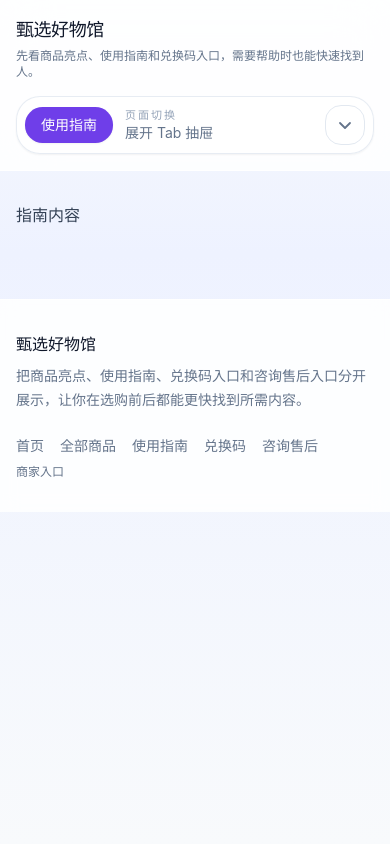
it: SiteShell › 移动端切换按钮会展示当前 tab，并支持抽屉展开
Click the button "使用指南 页面切换 展开 Tab 抽屉" at (195, 125), box [16, 96, 374, 154]
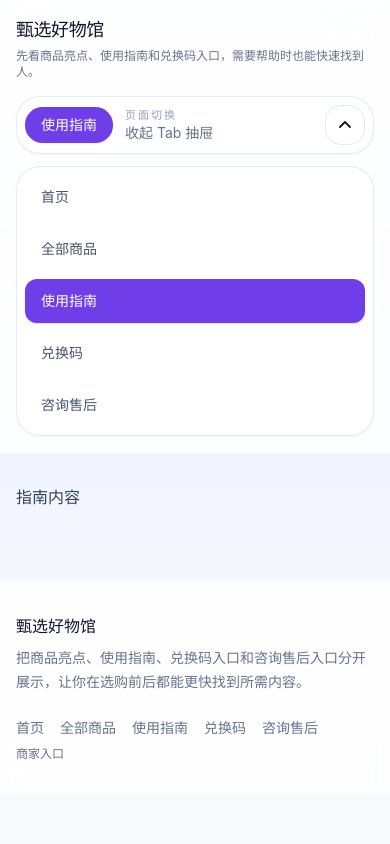
Now the button "使用指南 页面切换 收起 Tab 抽屉" is expanded, box [16, 96, 374, 154]
